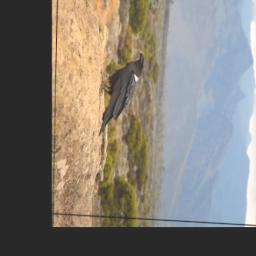Crow: (96, 47, 145, 141)
